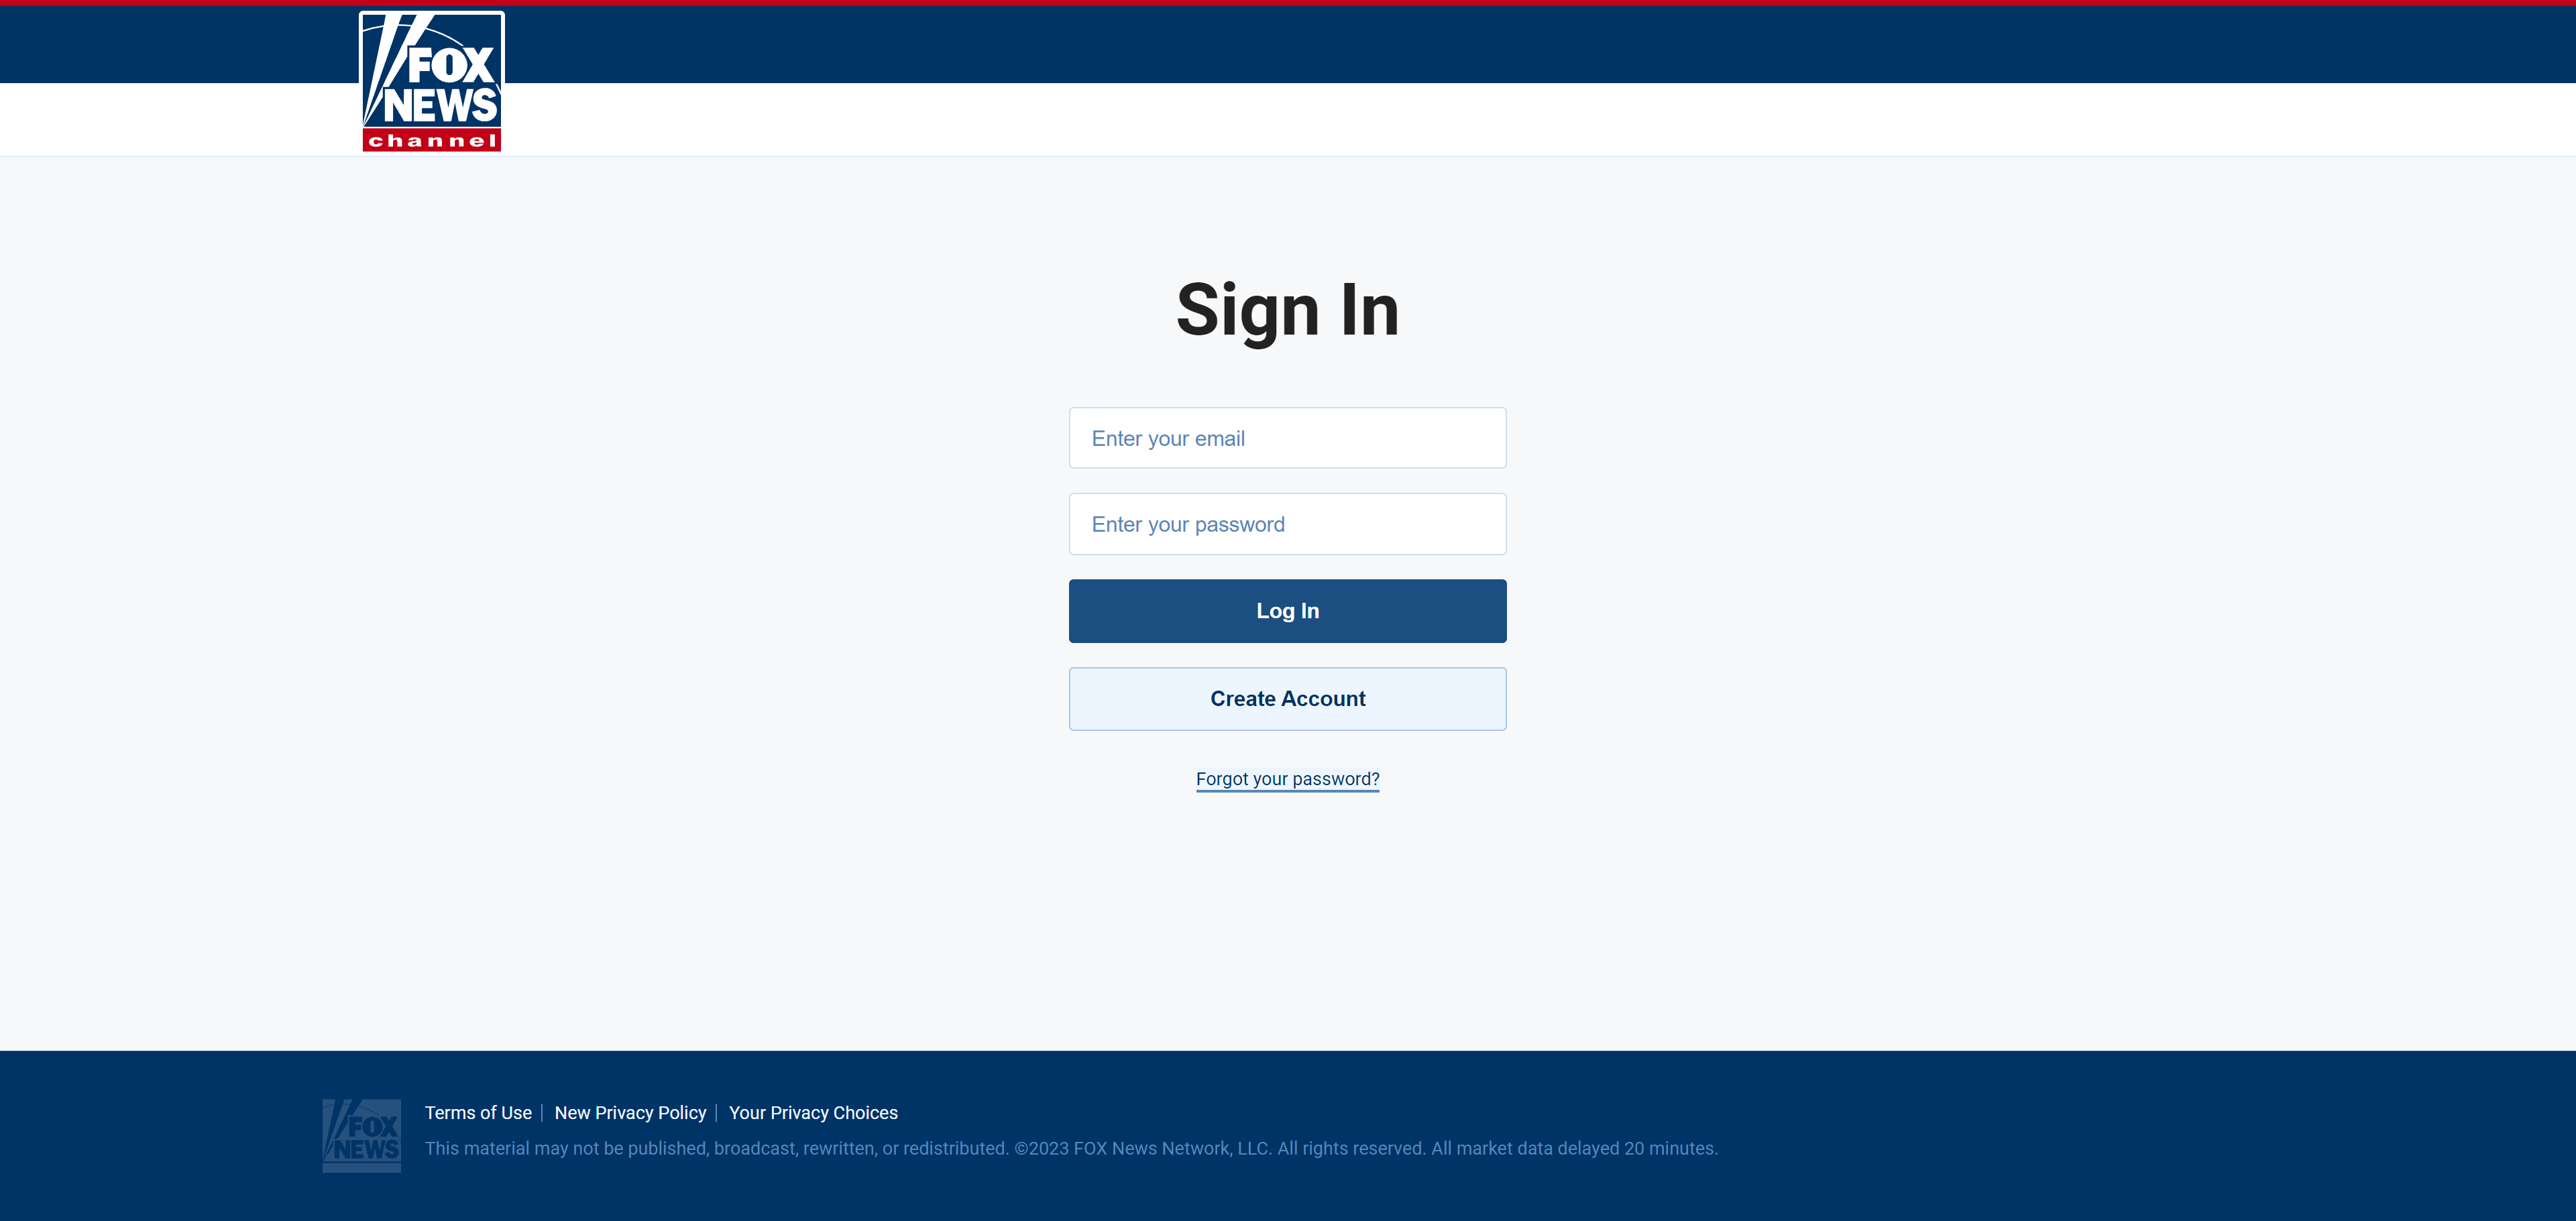login_button: (1069, 578, 1508, 643)
login_form: (1061, 401, 1515, 652)
